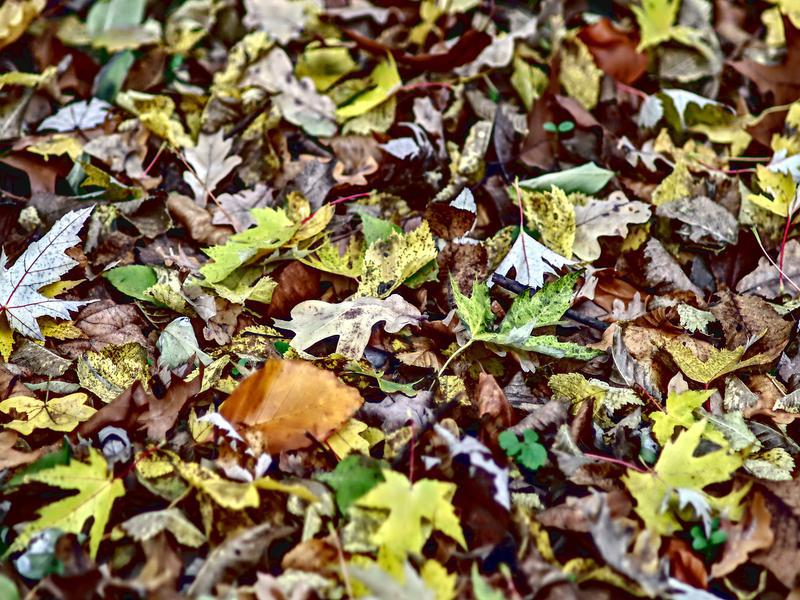leaf: (443, 269, 607, 378), (619, 421, 757, 538), (1, 196, 111, 342), (5, 445, 135, 566), (217, 352, 370, 452), (354, 465, 482, 561), (657, 314, 795, 390), (477, 200, 587, 288), (195, 200, 298, 291), (347, 220, 439, 303), (1, 372, 98, 438), (515, 146, 623, 198), (177, 127, 245, 209)
